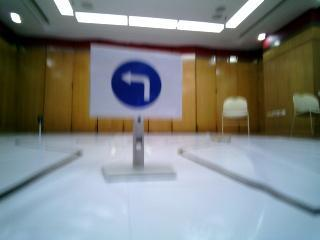left: (94, 51, 177, 120)
